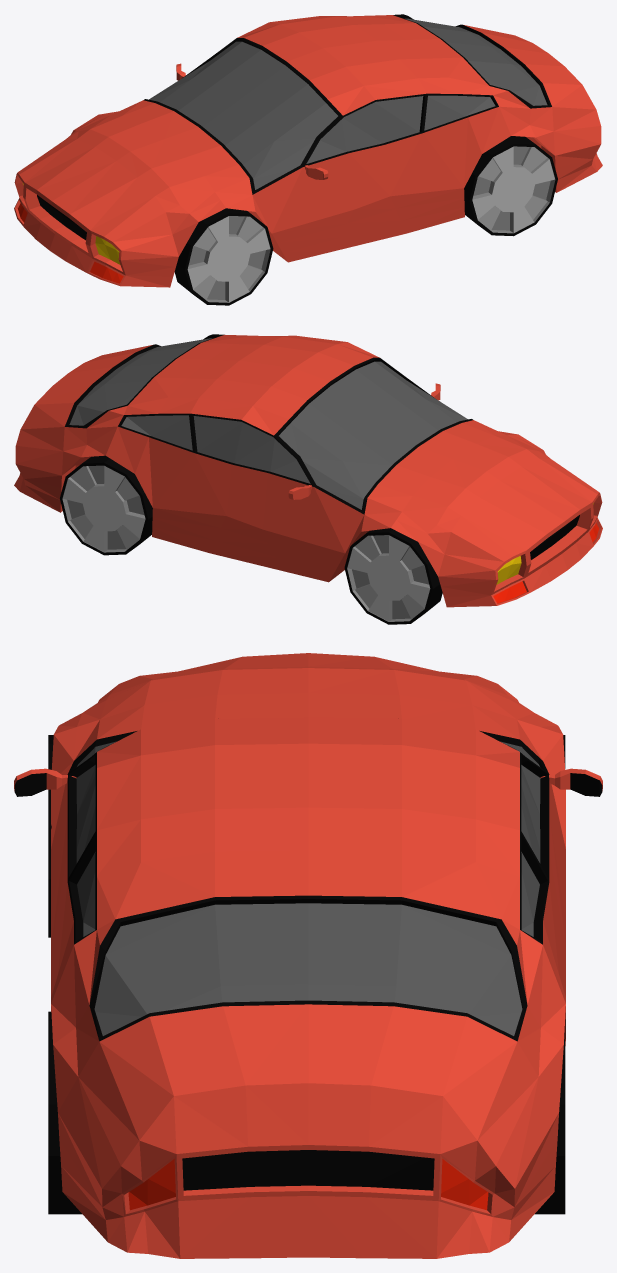
Rendered from Car2.fbx.
3 renders of one model, top to bottom at view 1: azimuth 30°, elevation 25°; view 2: azimuth 150°, elevation 25°; view 3: azimuth 270°, elevation 25°, orthographic. The views are drawn at different scales.
Parts seen in each view (by area): view 1: Cube, Cylinder, Cylinder.001; view 2: Cube, Cylinder.002, Cylinder.003; view 3: Cube, Cylinder.001, Cylinder.003.
Boxes of the visible parts, x1,y1,x2,y2 form: Cube: (14, 14, 602, 287); Cylinder: (174, 208, 273, 305); Cylinder.001: (464, 136, 557, 236); Cube: (14, 334, 602, 607); Cylinder.002: (344, 528, 442, 624); Cylinder.003: (60, 455, 152, 555); Cube: (14, 653, 602, 1258); Cylinder.001: (48, 1011, 81, 1214); Cylinder.003: (535, 1019, 565, 1214).
Bounding box in the file's own units: 933 × 295 × 463.
